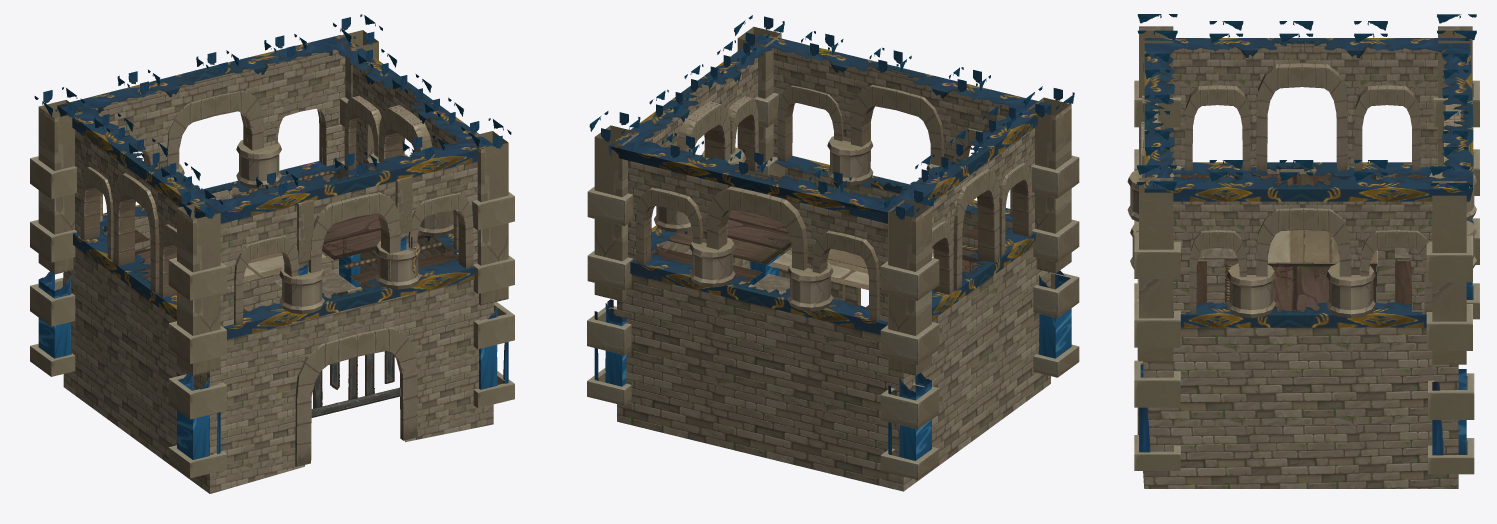
The model's file is TaiZi07.FBX.
The picture shows the model from 3 angles, left to right: view 1: azimuth 30°, elevation 25°; view 2: azimuth 150°, elevation 25°; view 3: azimuth 270°, elevation 25°; orthographic projection. The views are drawn at different scales.
Visible parts, largest first — view 1: Object801126879, Object801127056, Object801126877, Object801127055, Object801126972; view 2: Object801126879, Object801127056, Object801126877, Object801127055; view 3: Object801126879, Object801127056, Object801126877, Object801127055.
Boxes of the visible parts, <box> form: Object801126879: <box>63,49,493,493</box>; Object801127056: <box>57,34,493,466</box>; Object801126877: <box>30,14,514,478</box>; Object801127055: <box>100,171,456,311</box>; Object801126972: <box>311,351,400,417</box>; Object801126879: <box>617,48,1050,491</box>; Object801127056: <box>608,34,1051,334</box>; Object801126877: <box>587,15,1079,479</box>; Object801127055: <box>651,174,1006,308</box>; Object801126879: <box>1143,43,1458,488</box>; Object801127056: <box>1127,38,1476,434</box>; Object801126877: <box>1134,14,1479,474</box>; Object801127055: <box>1180,174,1425,311</box>.
Size of the model in its own units: 895 by 697 by 713.
